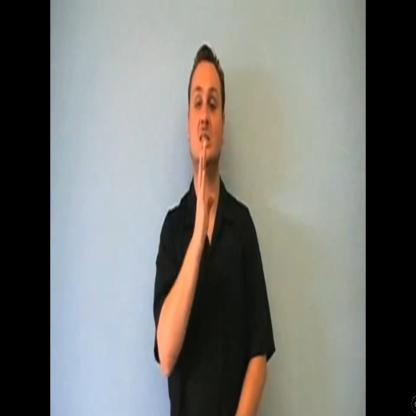Talk: (172, 24, 256, 292)
